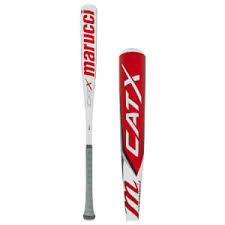baseball bat: (117, 46, 147, 225), (80, 4, 96, 219)
